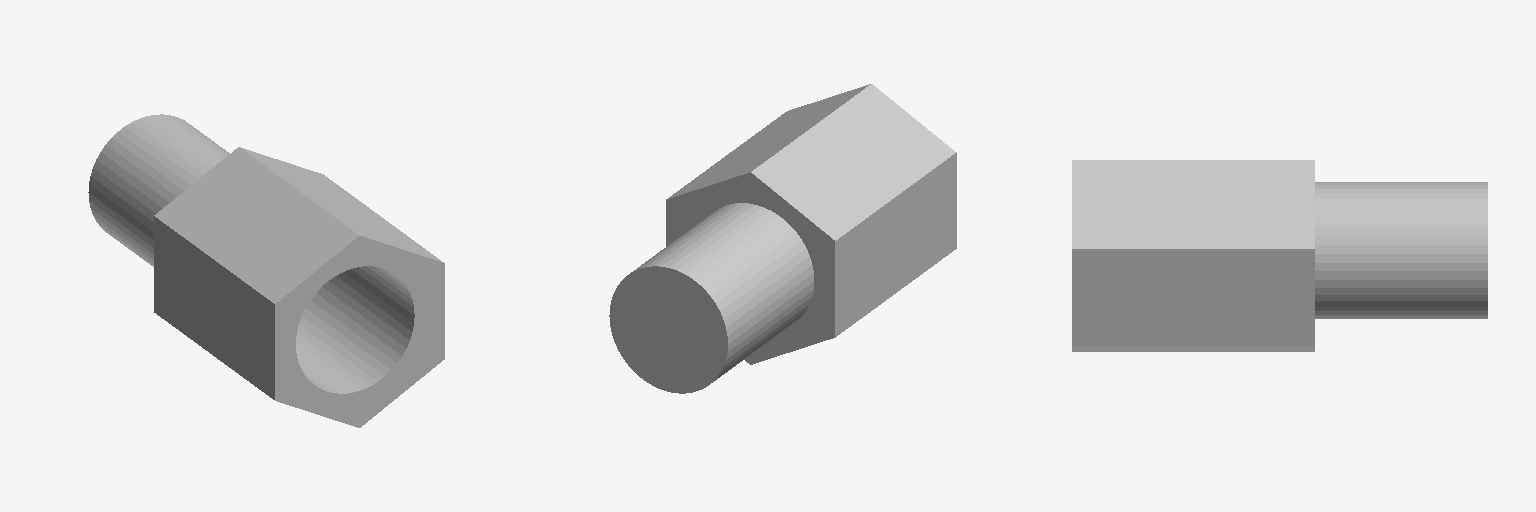
Rendered from Standoff.obj.
3 renders of one model, left to right at view 1: azimuth 30°, elevation 25°; view 2: azimuth 150°, elevation 25°; view 3: azimuth 270°, elevation 25°, orthographic.
Visible parts, largest first — view 1: obj_0; view 2: obj_0; view 3: obj_0.
Boxes of the visible parts, <box> form: obj_0: <box>88,114,444,427</box>; obj_0: <box>609,84,956,393</box>; obj_0: <box>1072,160,1487,351</box>.
Size of the model in its own units: 5.66 by 6.16 by 12.